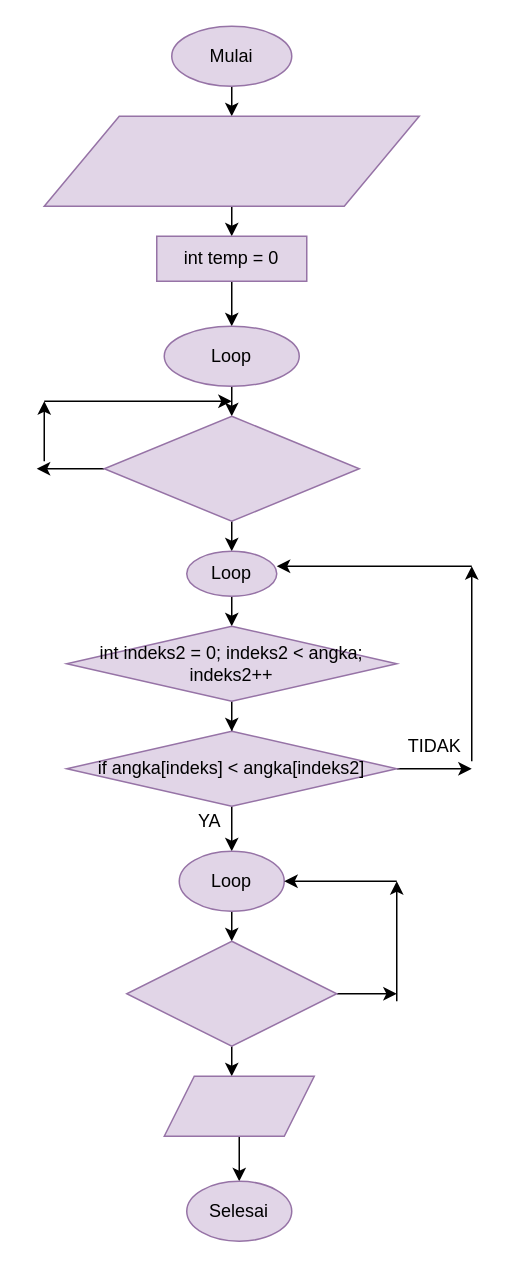
This 510x1268 diagram has some shape labels left out. Each missing label, with the centre of its shape:
"int indeks = 0; indeks < 13; indeks++" goes at pixel 231 993.
"int indeks=0; indeks < angka; indeks++" goes at pixel 231 468.
"int[] angka = {82,12,41,38,19,26,9,48,20,55,8,32,3" goes at pixel 231 160.
"Print angka" goes at pixel 238 1105.
